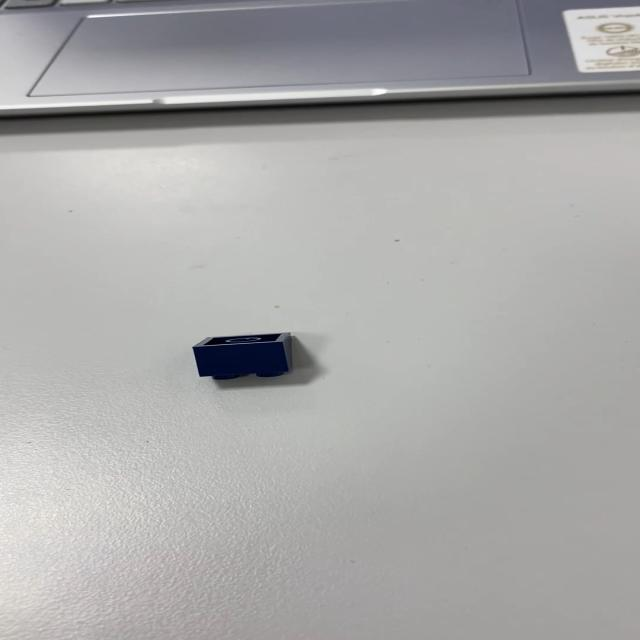P2x2x1: (192, 332, 296, 381)
